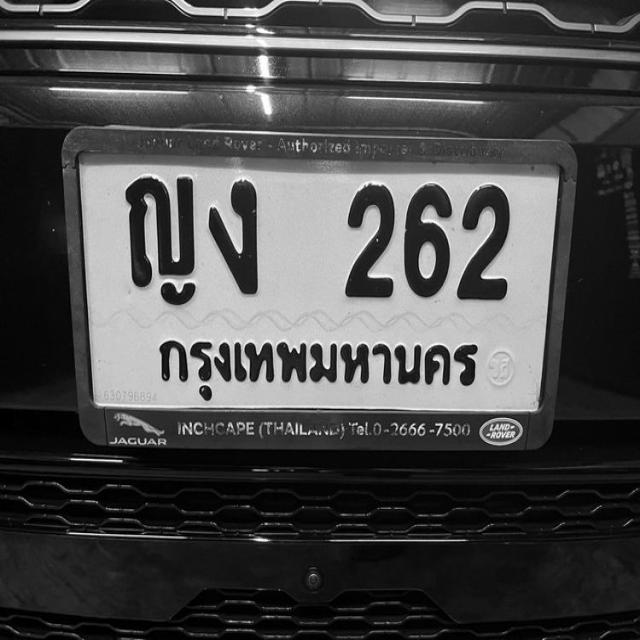plate: (64, 126, 544, 406)
